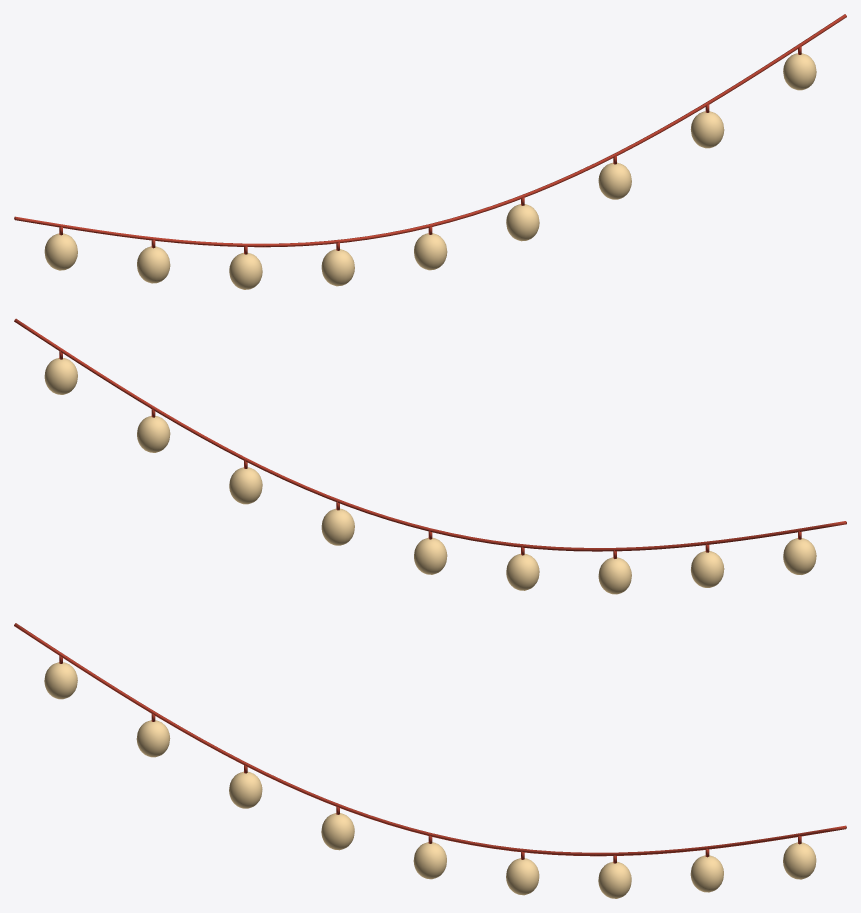
File: garland.glb
3 views of the same model, one above another, from view 1: azimuth 30°, elevation 25°; view 2: azimuth 150°, elevation 25°; view 3: azimuth 330°, elevation 25° (orthographic).
Visible parts, largest first — view 1: garland_paper, garland_yarn_red; view 2: garland_paper, garland_yarn_red; view 3: garland_paper, garland_yarn_red.
Boxes of the visible parts, x1,y1,x2,y2 form: garland_paper: (44,53,816,289); garland_yarn_red: (14,14,846,254); garland_paper: (44,358,816,594); garland_yarn_red: (14,318,846,558); garland_paper: (44,662,816,898); garland_yarn_red: (14,623,846,863).
Size of the model in its own units: 4.01 by 0.7071 by 0.14.
